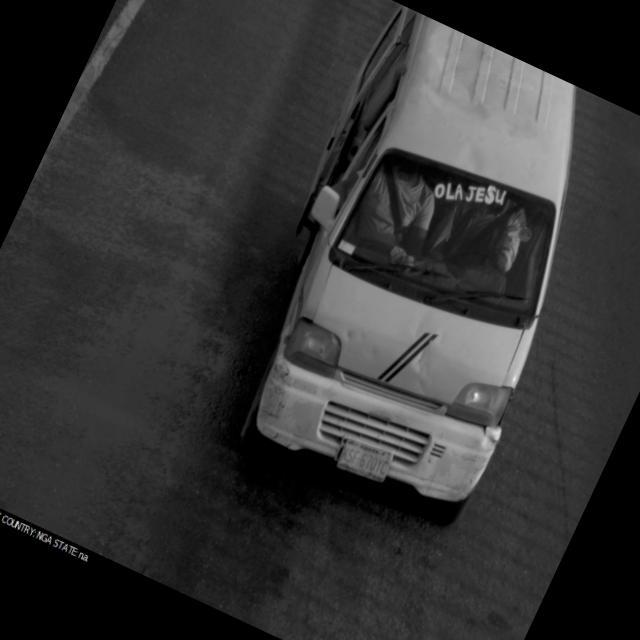windshield: (319, 145, 557, 331)
